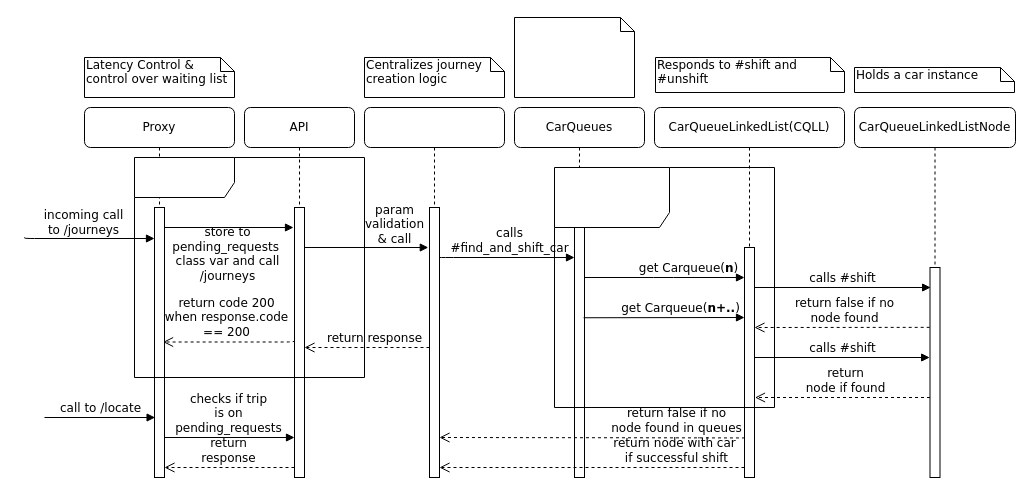
Some shapes in this 1033 by 496 pixel diagram are drawn without their labels. The shapes that lost their labels are listed below. From the top down, each one's box as (x1, y1, x2, y2) in pixels, then its label:
(514, 16, 634, 98): Holds a class var queues = { 1 : CQLL, 2 : CQLL, ... }
(134, 156, 364, 378): while response != 200
(554, 166, 774, 408): for n in range( trip_seats , 6)
(364, 106, 504, 478): CreateJourneyService
